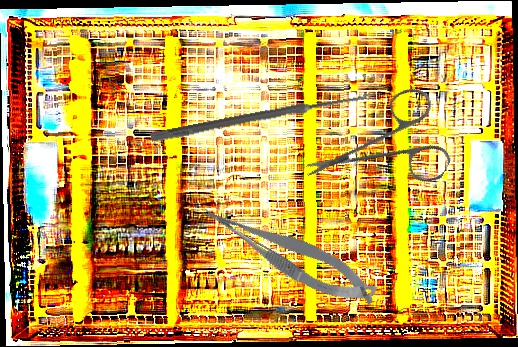Iris Scissors: (302, 59, 474, 232)
Micro Scissor: (194, 181, 385, 324)
Surgical Spoon: (150, 89, 376, 144)
